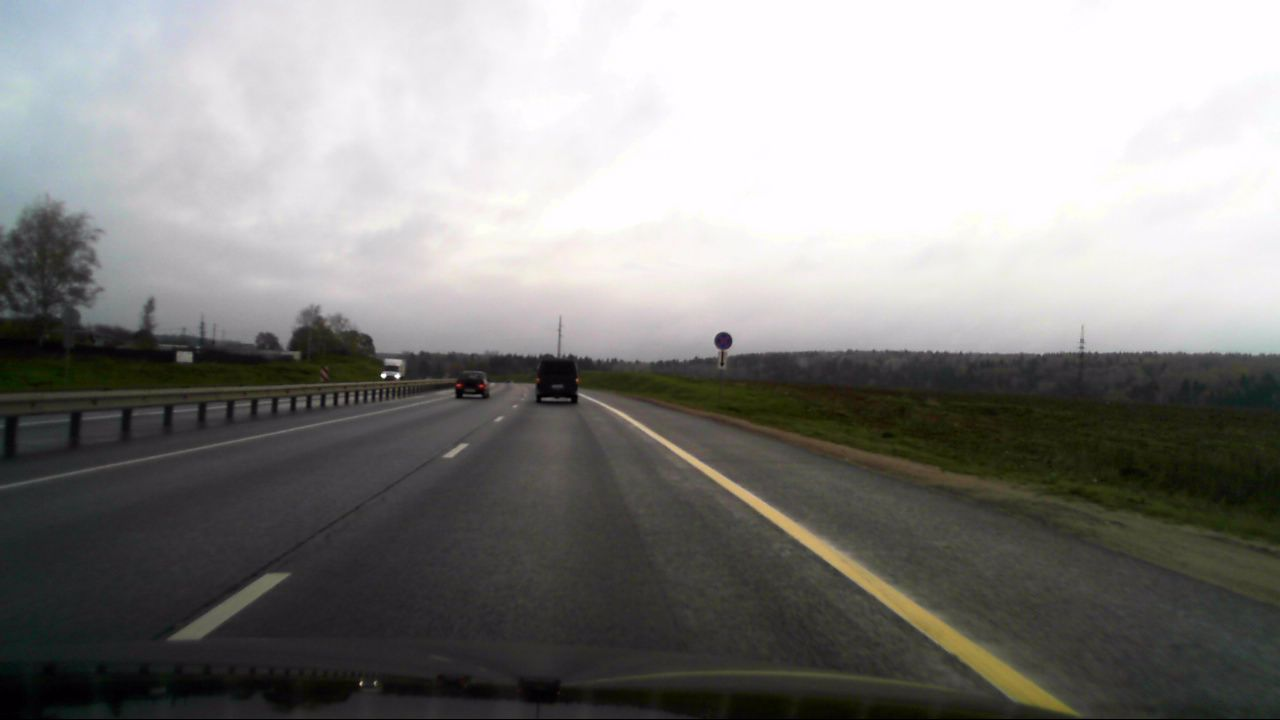No Parking: (714, 331, 732, 350)
